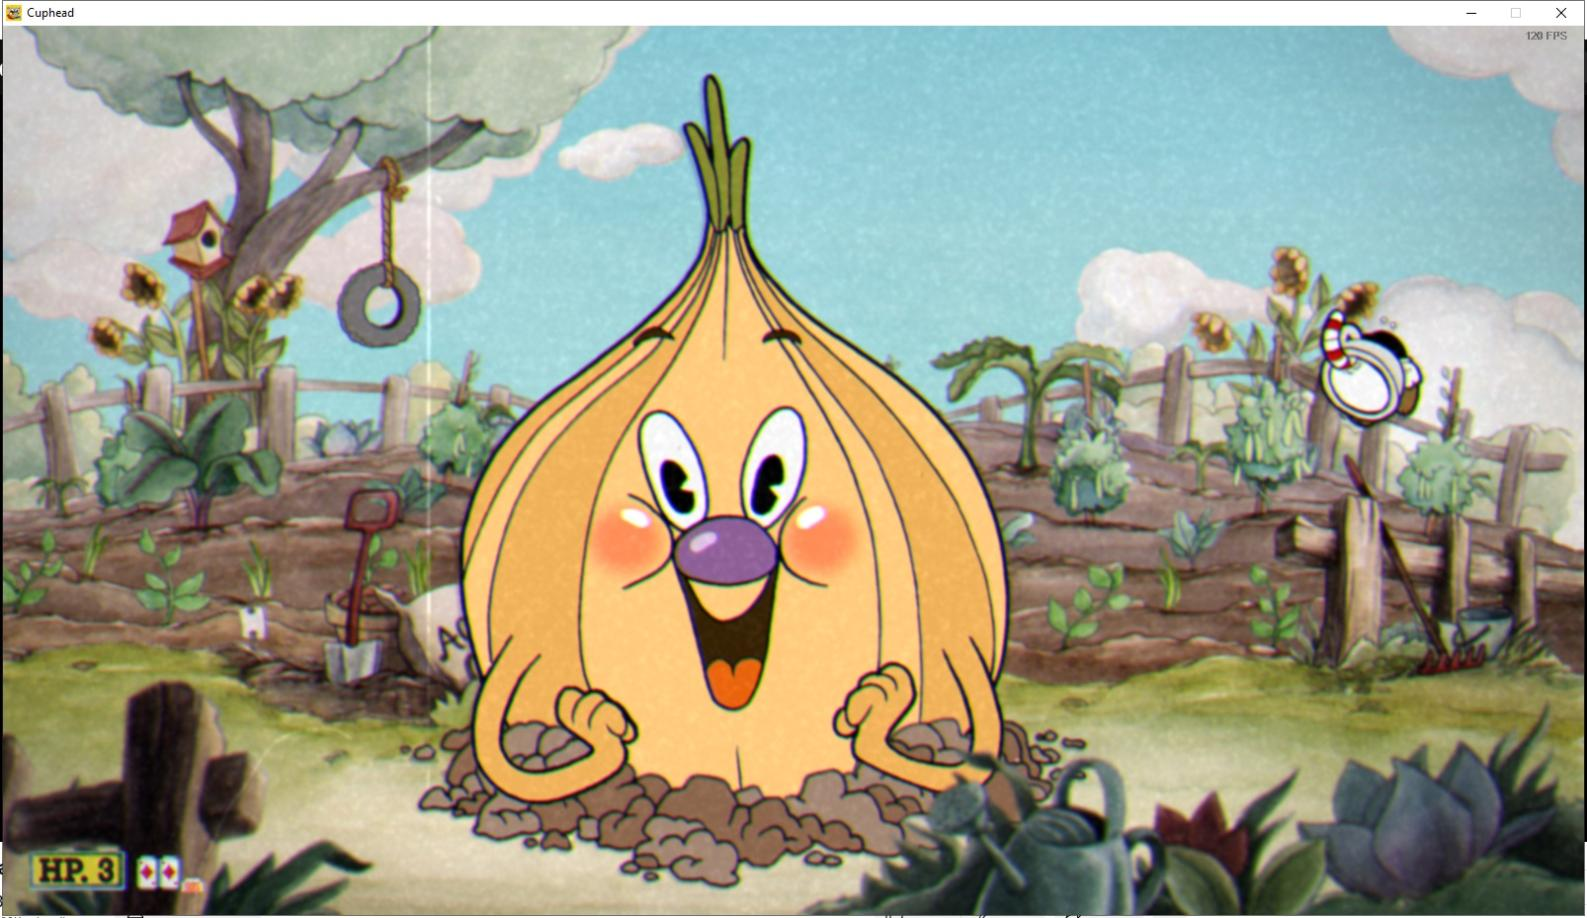hp3: (96, 853, 124, 890)
onion_boss: (446, 66, 1035, 842)
player: (1304, 299, 1438, 431)
